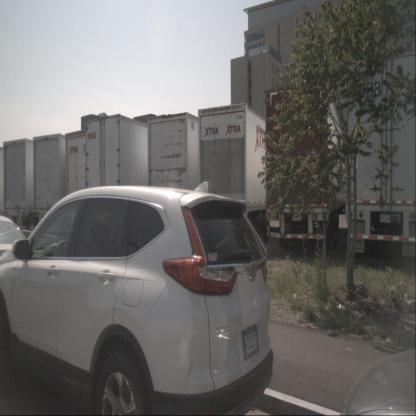vehicle-car: (0, 186, 273, 415), (335, 346, 416, 416), (0, 210, 31, 256)
